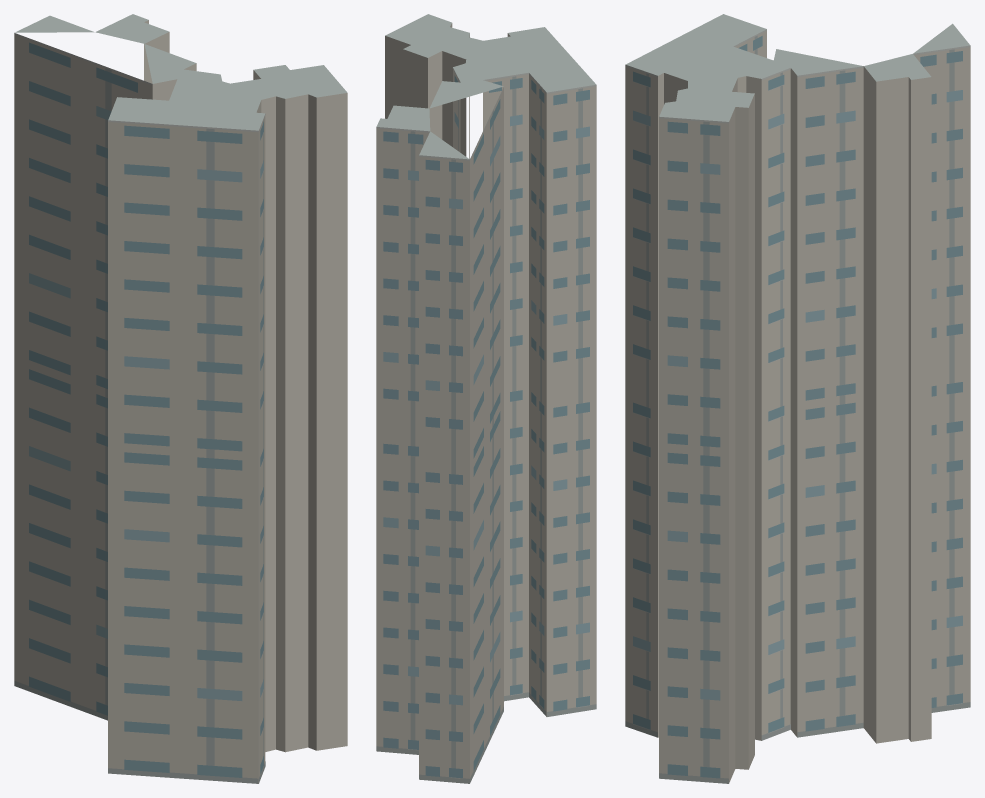
Rendered from residential-baed5425-6742-4dcc-8e29-db3a75c622ed.glb.
The picture shows the model from 3 angles, left to right: view 1: azimuth 30°, elevation 25°; view 2: azimuth 150°, elevation 25°; view 3: azimuth 270°, elevation 25°; orthographic projection. The views are drawn at different scales.
Parts seen in each view (by area): view 1: residential-baed5425-6742-4dcc-8e29-db3a75c622ed.tmp; view 2: residential-baed5425-6742-4dcc-8e29-db3a75c622ed.tmp; view 3: residential-baed5425-6742-4dcc-8e29-db3a75c622ed.tmp.
Boxes of the visible parts, x1,y1,x2,y2 form: residential-baed5425-6742-4dcc-8e29-db3a75c622ed.tmp: (14, 14, 347, 783); residential-baed5425-6742-4dcc-8e29-db3a75c622ed.tmp: (376, 14, 596, 783); residential-baed5425-6742-4dcc-8e29-db3a75c622ed.tmp: (625, 14, 970, 783).
Size of the model in its own units: 35.35 by 101 by 47.72.
